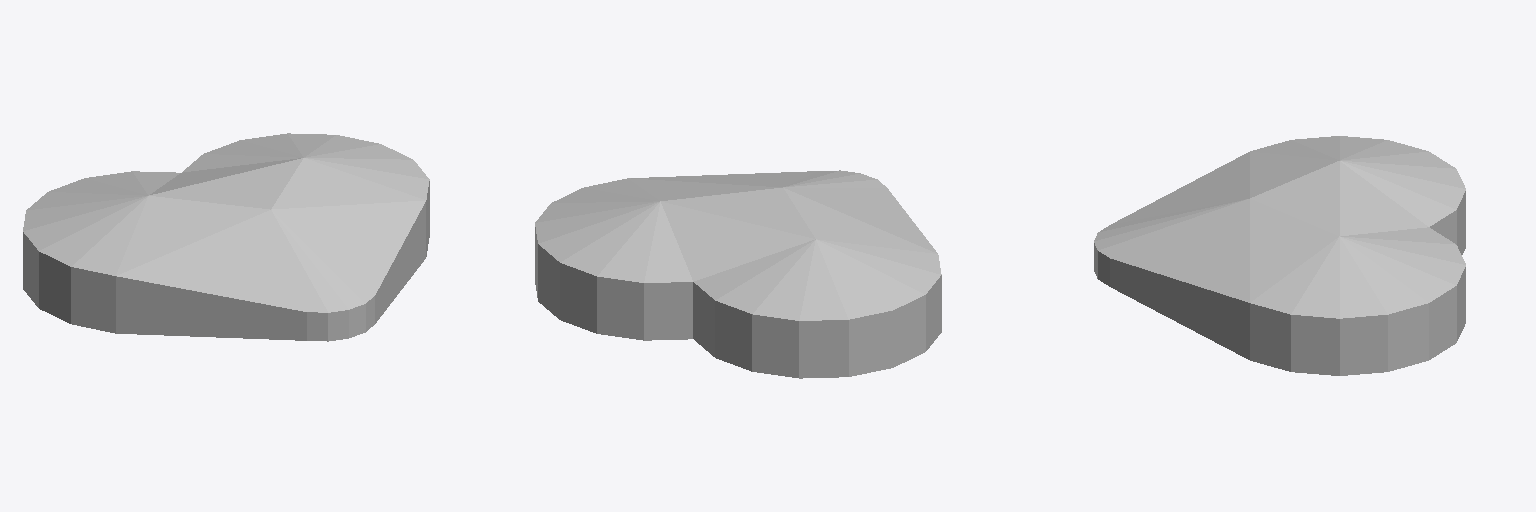
Rendered from Heart_low_poly.obj.
3 views of the same model, side by side, from view 1: azimuth 30°, elevation 25°; view 2: azimuth 150°, elevation 25°; view 3: azimuth 270°, elevation 25° (orthographic).
Visible parts, largest first — view 1: base_Cube; view 2: base_Cube; view 3: base_Cube.
Boxes of the visible parts, x1,y1,x2,y2 form: base_Cube: [23, 133, 429, 341]; base_Cube: [535, 170, 941, 378]; base_Cube: [1094, 136, 1465, 375].
Bounding box in the file's own units: 3.41 × 1 × 2.94.